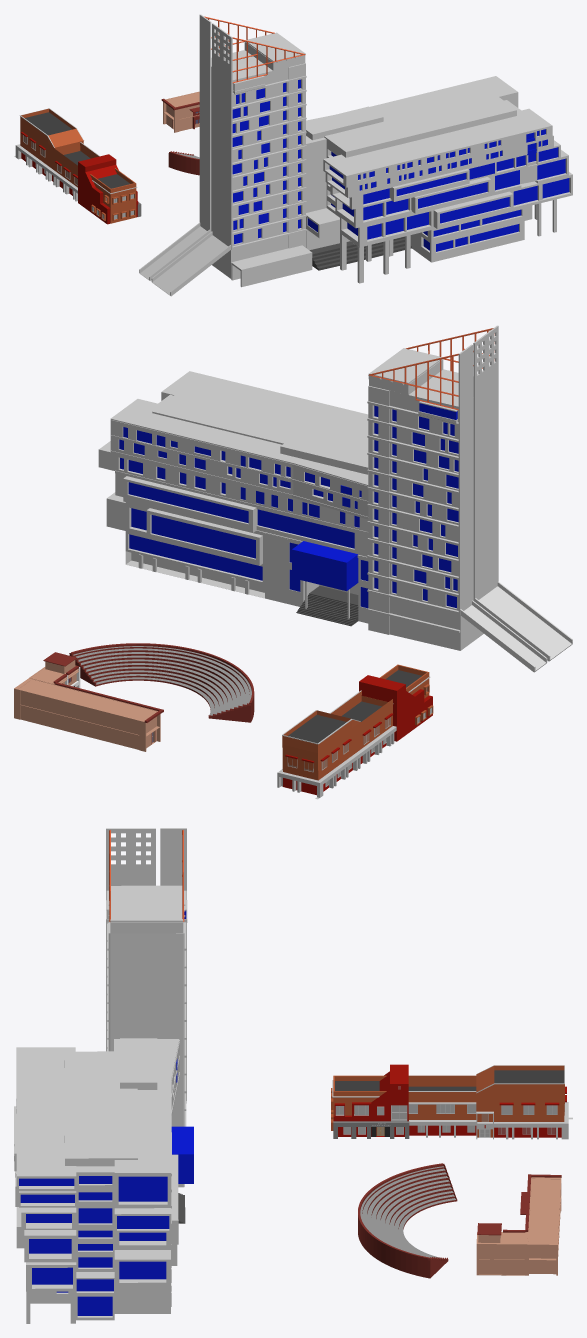
File: enviornment.gltf
3 renders of one model, top to bottom at view 1: azimuth 30°, elevation 25°; view 2: azimuth 150°, elevation 25°; view 3: azimuth 270°, elevation 25°, orthographic. The views are drawn at different scales.
Visible parts, largest first — view 1: Cube.002, Building, black; view 2: Cube.002, black, Building; view 3: Cube.002, Building, black.
Part boxes in pixels (x1=…): Cube.002: x1=139, y1=14, x2=572, y2=296; Building: x1=14, y1=108, x2=141, y2=224; black: x1=161, y1=91, x2=199, y2=175; Cube.002: x1=98, y1=325, x2=572, y2=672; black: x1=14, y1=643, x2=254, y2=751; Building: x1=277, y1=664, x2=433, y2=799; Cube.002: x1=14, y1=828, x2=193, y2=1323; Building: x1=331, y1=1064, x2=572, y2=1139; black: x1=358, y1=1163, x2=561, y2=1278.
Size of the model in its own units: 2239 by 1422 by 2281.
